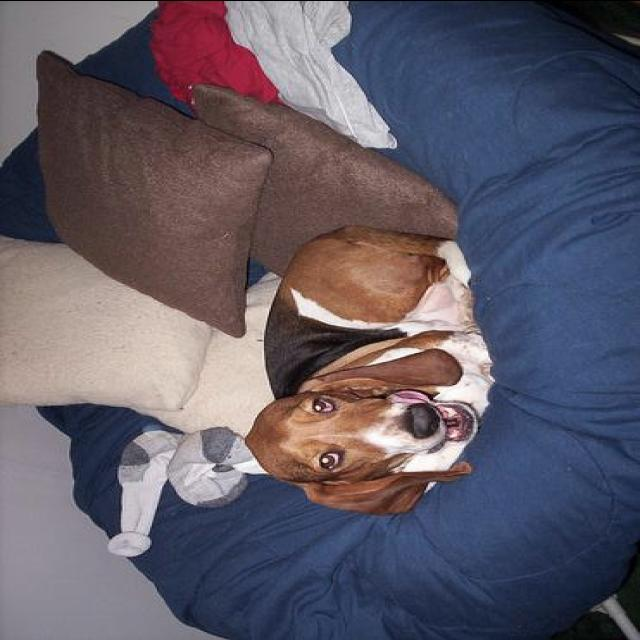basset: (240, 220, 496, 513)
